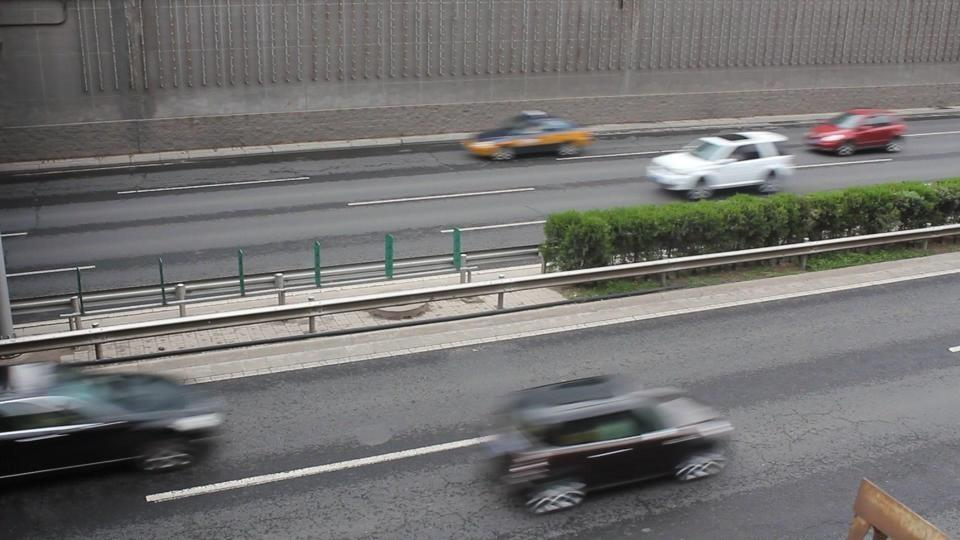car: (490, 375, 735, 514), (1, 369, 228, 481), (644, 130, 795, 200), (461, 110, 596, 161), (802, 110, 909, 156)
